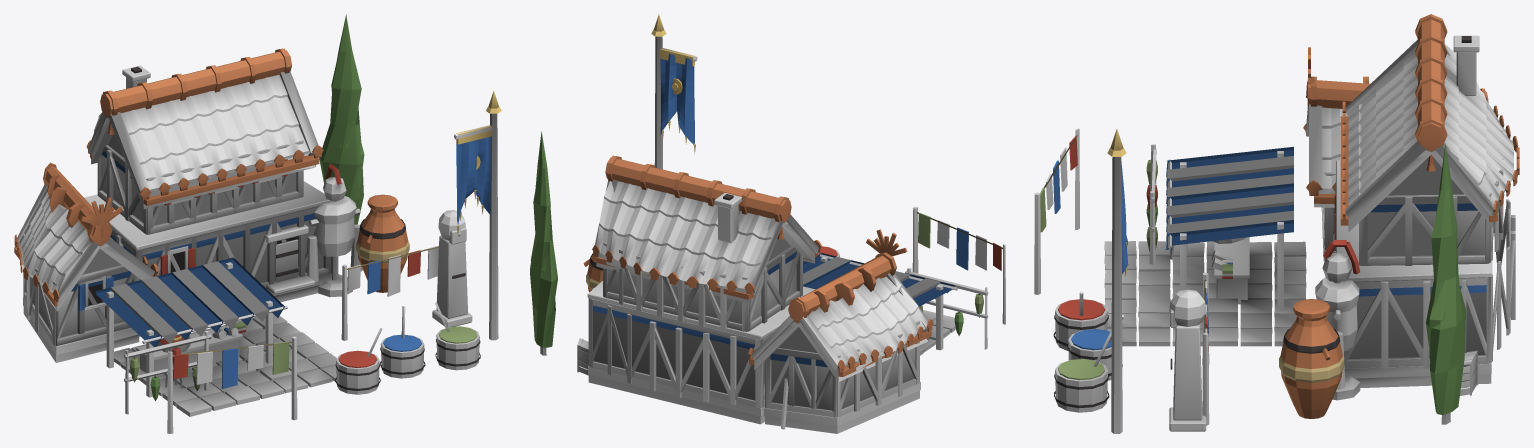
The model's file is menders-hut-l3.glb.
3 views of the same model, side by side, from view 1: azimuth 30°, elevation 25°; view 2: azimuth 150°, elevation 25°; view 3: azimuth 270°, elevation 25° (orthographic). The views are drawn at different scales.
Visible parts, largest first — view 1: menders-hut-l3; view 2: menders-hut-l3; view 3: menders-hut-l3.
Boxes of the visible parts, <box> form: menders-hut-l3: <box>14,14,501,433</box>; menders-hut-l3: <box>530,14,1005,433</box>; menders-hut-l3: <box>1034,14,1519,433</box>.
Bounding box in the file's own units: 1.4 × 0.9077 × 1.31.
